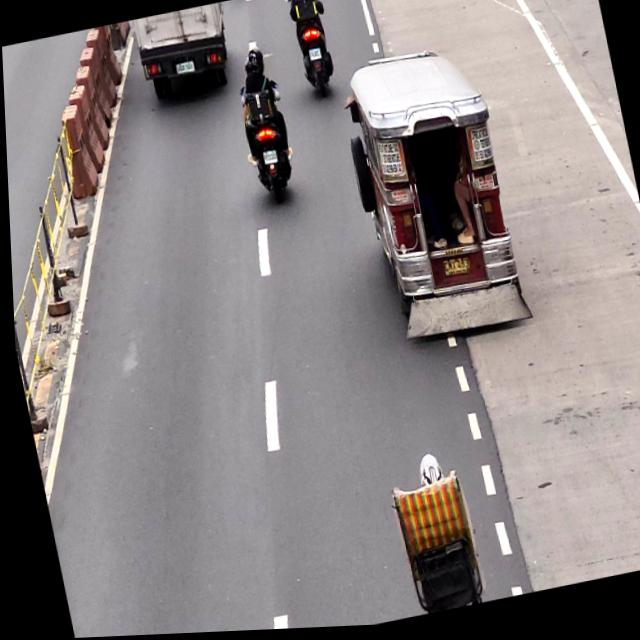Jeep: (338, 39, 532, 358)
License-Plate: (441, 257, 470, 284), (173, 59, 196, 78), (307, 49, 323, 67), (259, 153, 276, 168)
Motorcycle: (379, 456, 479, 621), (229, 49, 298, 215), (290, 0, 338, 102)
Truck: (129, 4, 235, 109)
